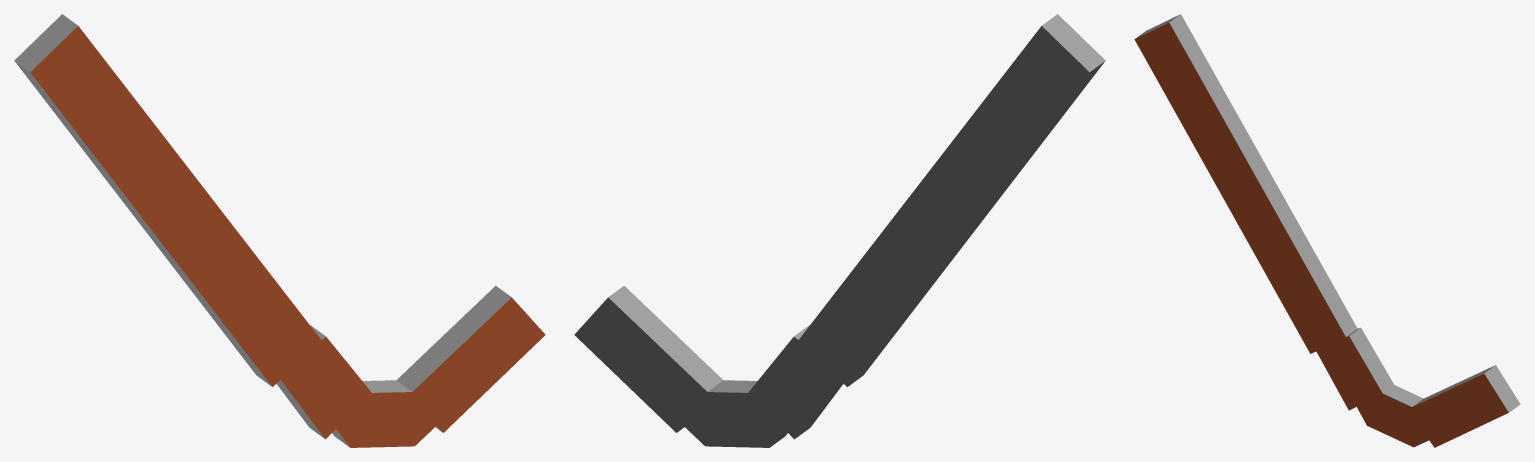
Rendered from construction_5682_assumed_A_Casa_h6m.obj.
The picture shows the model from 3 angles, left to right: view 1: azimuth 30°, elevation 25°; view 2: azimuth 150°, elevation 25°; view 3: azimuth 330°, elevation 25°; orthographic projection. The views are drawn at different scales.
Visible parts, largest first — view 1: construction_5682_assumed_A_Casa; view 2: construction_5682_assumed_A_Casa; view 3: construction_5682_assumed_A_Casa.
Part boxes in pixels (box(x1,y1,x2,y2)): construction_5682_assumed_A_Casa: box(14, 14, 545, 447); construction_5682_assumed_A_Casa: box(574, 14, 1105, 447); construction_5682_assumed_A_Casa: box(1134, 14, 1520, 447).
Bounding box in the file's own units: 111 × 104 × 6.
